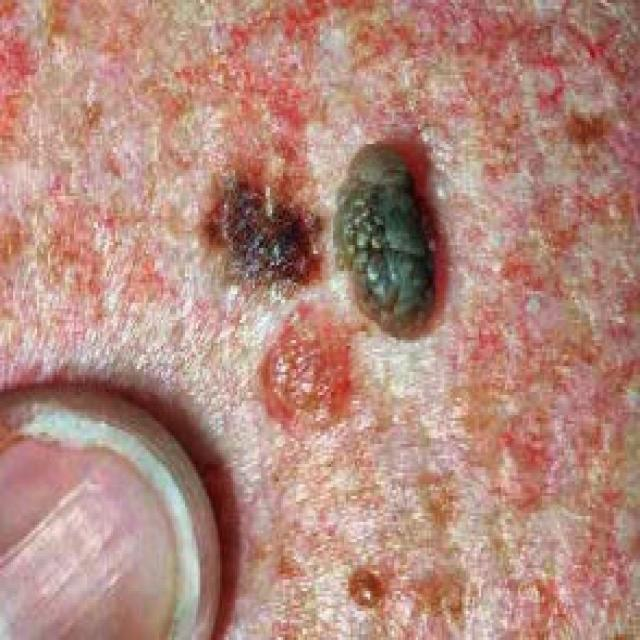Seborrheic-Keratoses-and-other-Benign-Tumors: (181, 85, 493, 470)
